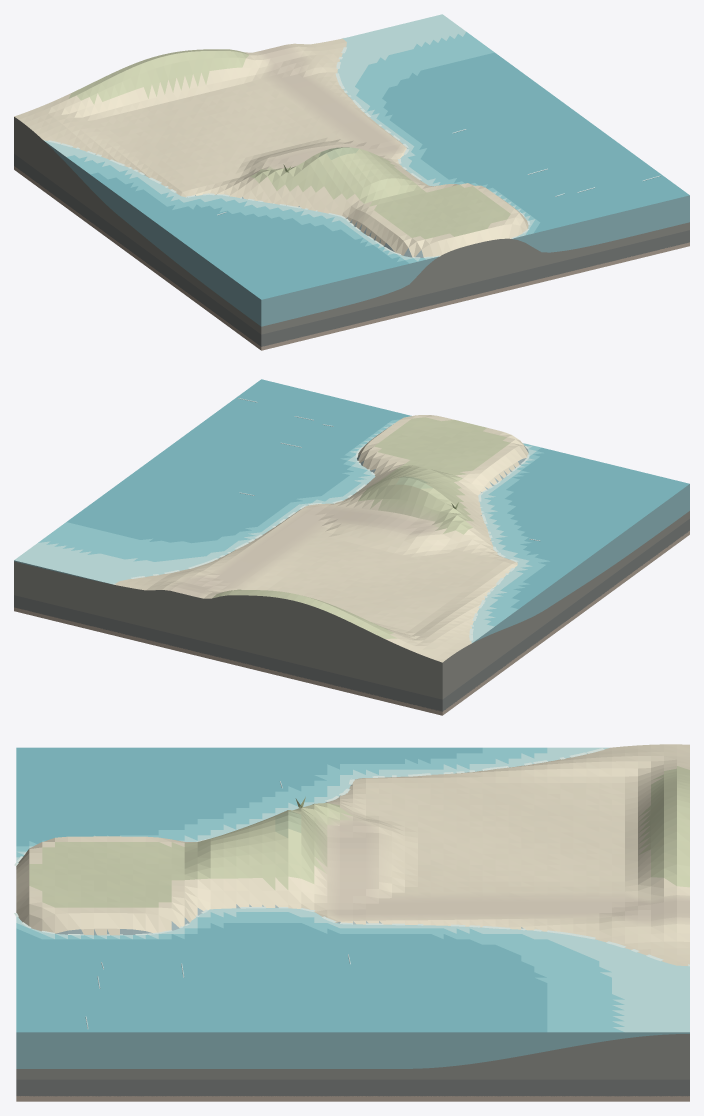
3 renders of one model, top to bottom at view 1: azimuth 30°, elevation 25°; view 2: azimuth 150°, elevation 25°; view 3: azimuth 270°, elevation 25°, orthographic. The views are drawn at different scales.
Parts seen in each view (by area): view 1: proc_water, proc_ground, proc_skirt, proc_water_side, proc_foam; view 2: proc_water, proc_ground, proc_skirt, proc_water_side, proc_foam; view 3: proc_water, proc_ground, proc_skirt, proc_water_side, proc_foam.
Boxes of the visible parts, box(x1,y1,x2,y2) form: proc_water: box(44, 14, 689, 299); proc_ground: box(14, 38, 528, 257); proc_skirt: box(14, 117, 689, 350); proc_water_side: box(44, 141, 689, 326); proc_foam: box(48, 38, 530, 257); proc_water: box(14, 379, 689, 642); proc_ground: box(114, 415, 528, 662); proc_skirt: box(14, 511, 689, 715); proc_water_side: box(14, 484, 689, 642); proc_foam: box(113, 442, 529, 640); proc_water: box(16, 747, 689, 1032); proc_ground: box(16, 744, 689, 965); proc_skirt: box(16, 1034, 689, 1101); proc_water_side: box(16, 1032, 689, 1068); proc_foam: box(14, 748, 689, 966).
Bounding box in the file's own units: 8 × 1.53 × 8.03.
